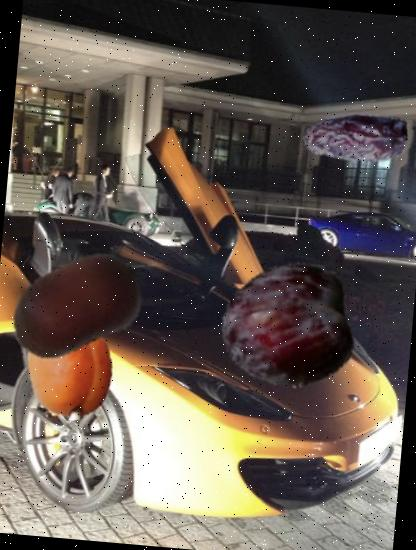Apricot: (18, 318, 124, 424)
Dates: (299, 82, 412, 195)
Nectarine: (3, 234, 150, 381)
Plum: (216, 255, 360, 400)
